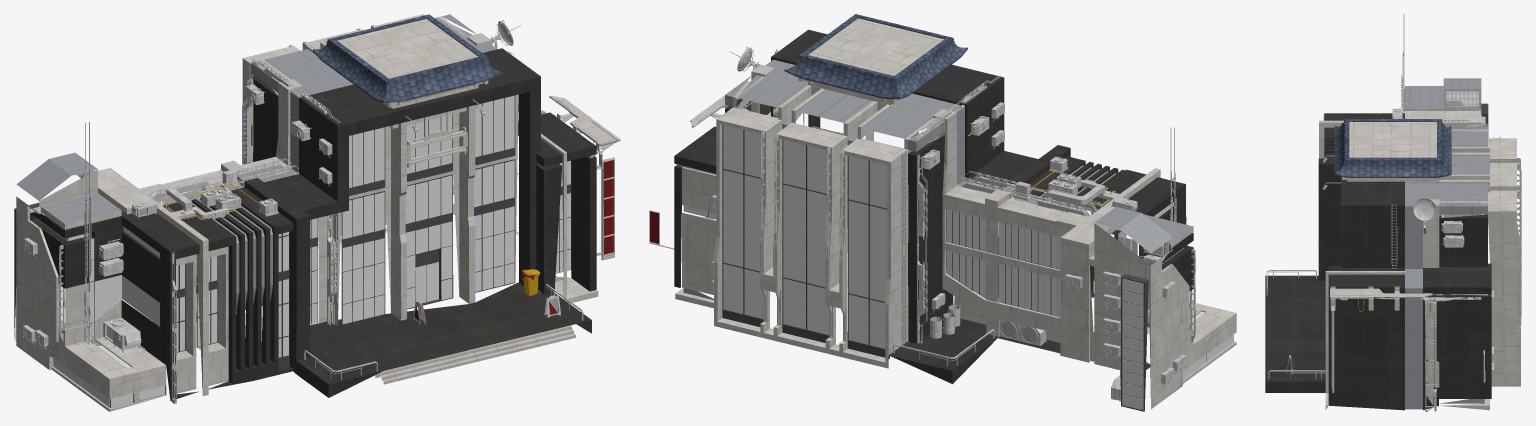
Rendered from KB3D_NEC_BldgMD_A_Main.glb.
3 views of the same model, side by side, from view 1: azimuth 30°, elevation 25°; view 2: azimuth 150°, elevation 25°; view 3: azimuth 270°, elevation 25° (orthographic). The views are drawn at different scales.
Visible parts, largest first — view 1: KB3D_NEC_BldgMD_A_Main; view 2: KB3D_NEC_BldgMD_A_Main; view 3: KB3D_NEC_BldgMD_A_Main.
Boxes of the visible parts, x1,y1,x2,y2 form: KB3D_NEC_BldgMD_A_Main: [14, 14, 620, 411]; KB3D_NEC_BldgMD_A_Main: [649, 14, 1236, 411]; KB3D_NEC_BldgMD_A_Main: [1265, 14, 1521, 411].
Size of the model in its own units: 28.44 by 13.33 by 14.61.
11 materials, 10 textured.
